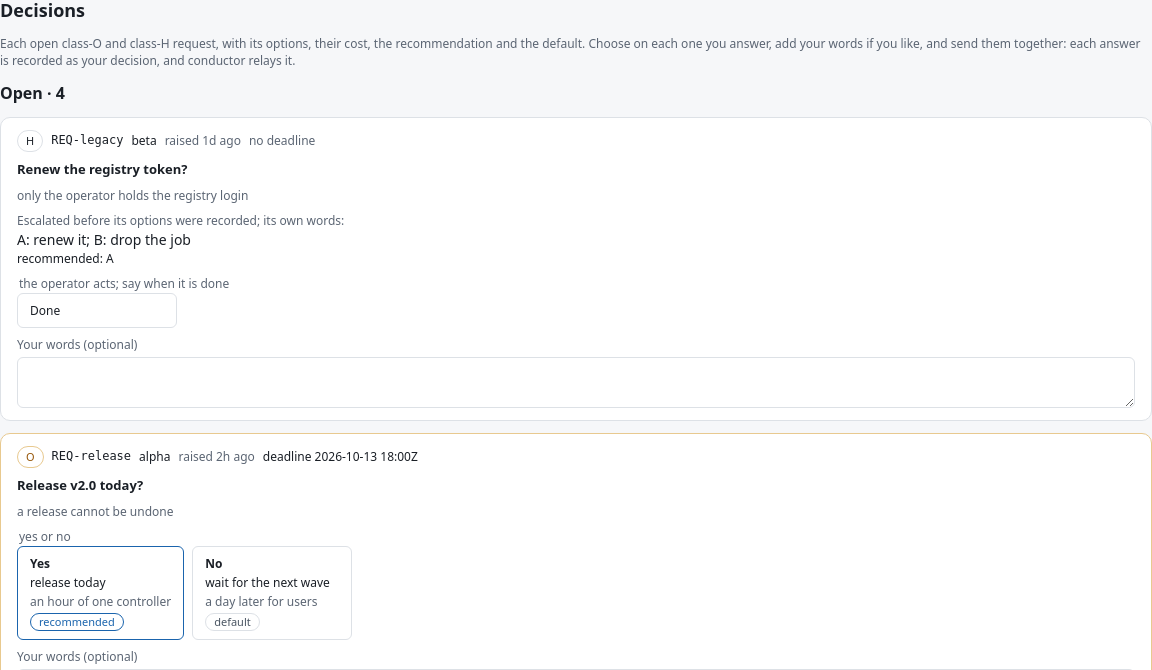
answering on the Decisions page › shows each row of the batch recorded or refused, and keeps a refused choice
Click the button with class "choice" that starts with "Yes" at (101, 593), box [17, 546, 184, 640]
(page scrolled)
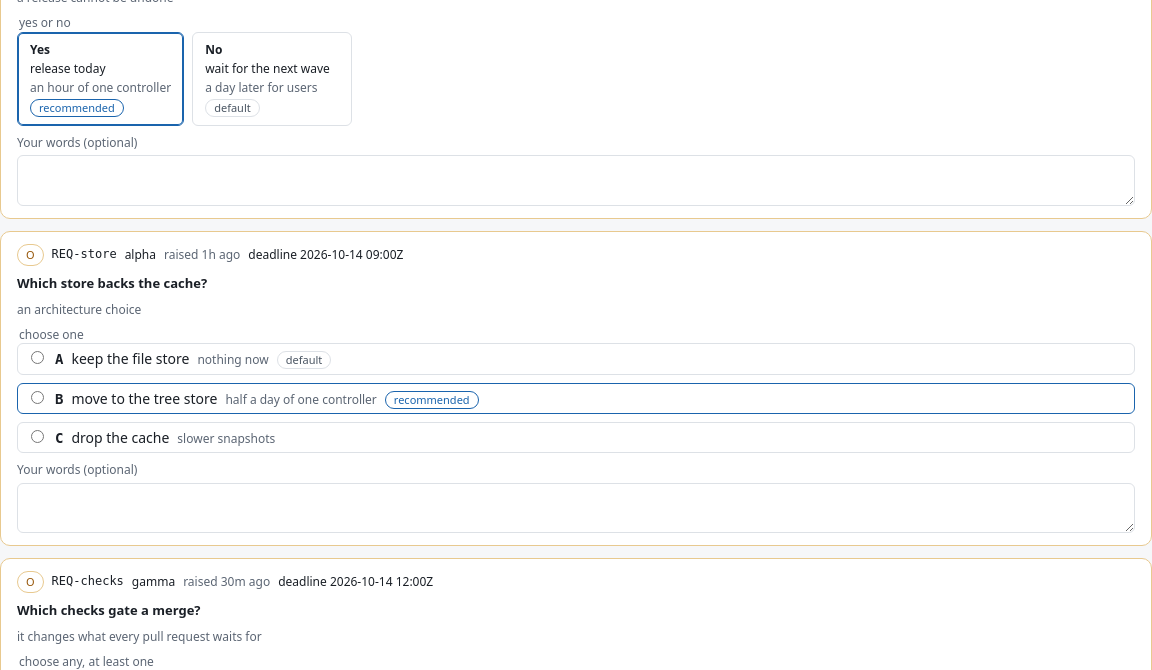
Click the radio button labelled "A keep the file store nothing now default" at (38, 358), box [31, 351, 44, 364]
(page scrolled)
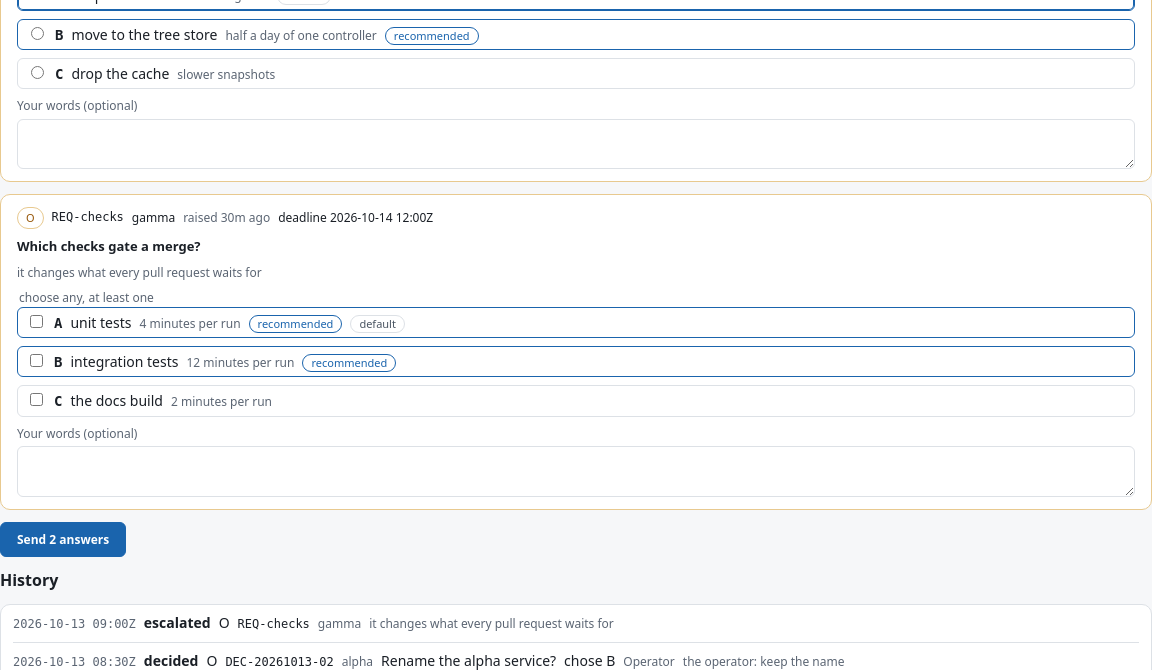
Click the button with class "send" at (63, 539), box [0, 522, 126, 557]
(page scrolled)
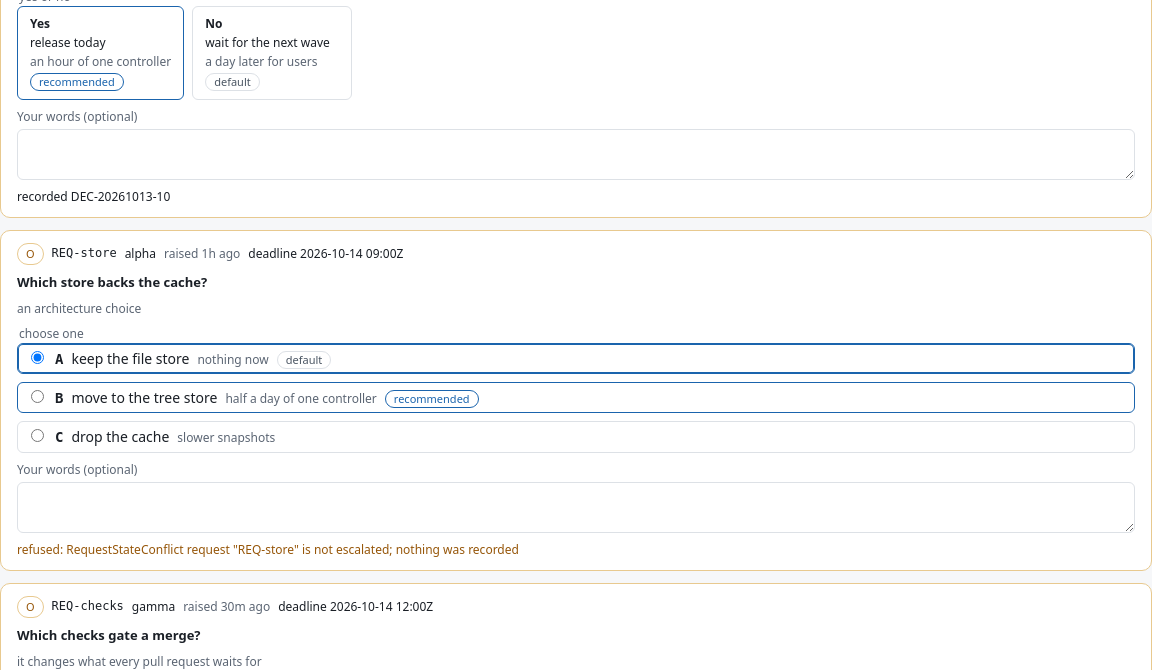
Now the radio button labelled "A keep the file store nothing now default" is checked, box [31, 351, 44, 364]
Now the message with class "result" shows "RequestStateConflict", box [17, 541, 519, 558]
